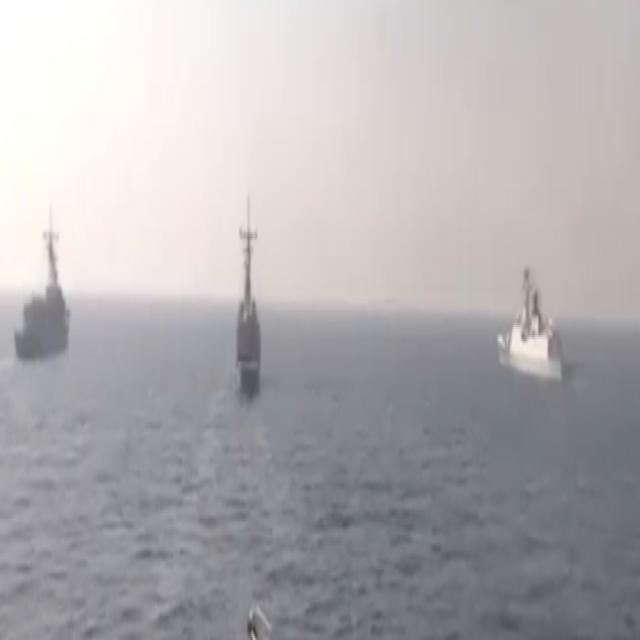navalvessels: (498, 260, 580, 394), (11, 196, 70, 364), (232, 182, 266, 394)
